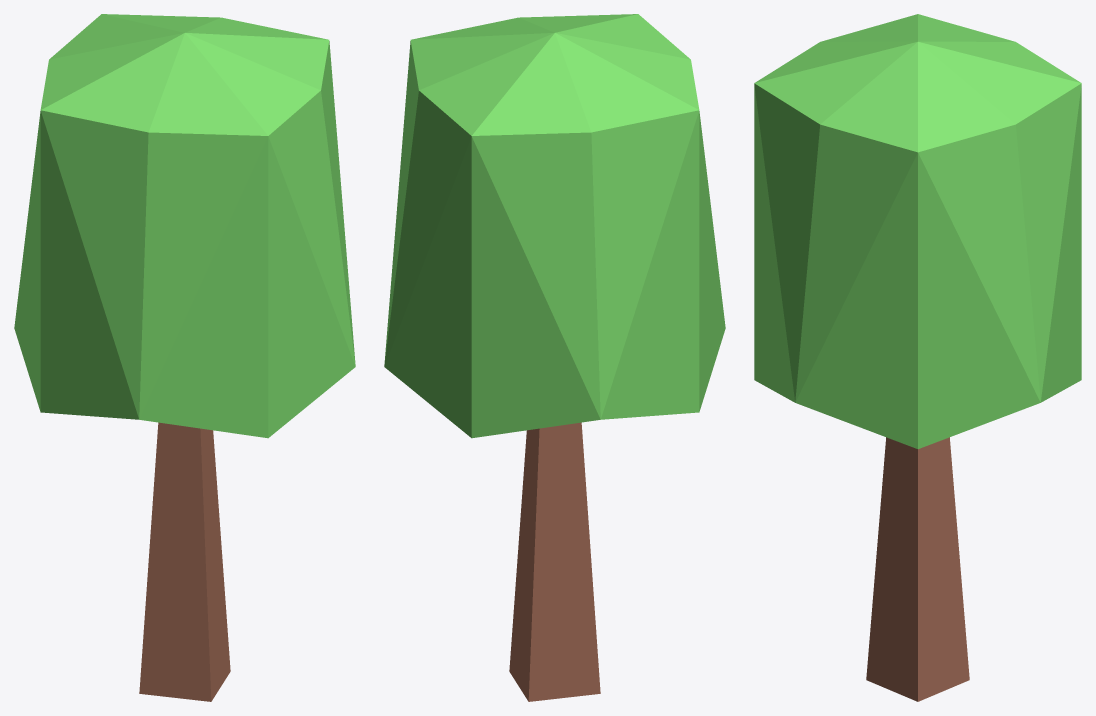
Rendered from OakObj.fbx.
3 renders of one model, left to right at view 1: azimuth 30°, elevation 25°; view 2: azimuth 150°, elevation 25°; view 3: azimuth 270°, elevation 25°, orthographic.
Visible parts, largest first — view 1: Oak; view 2: Oak; view 3: Oak.
Part boxes in pixels (bbox=[...]): Oak: bbox=[14, 14, 355, 701]; Oak: bbox=[384, 14, 725, 701]; Oak: bbox=[754, 14, 1081, 701].
Size of the model in its own units: 567 by 1219 by 567.
